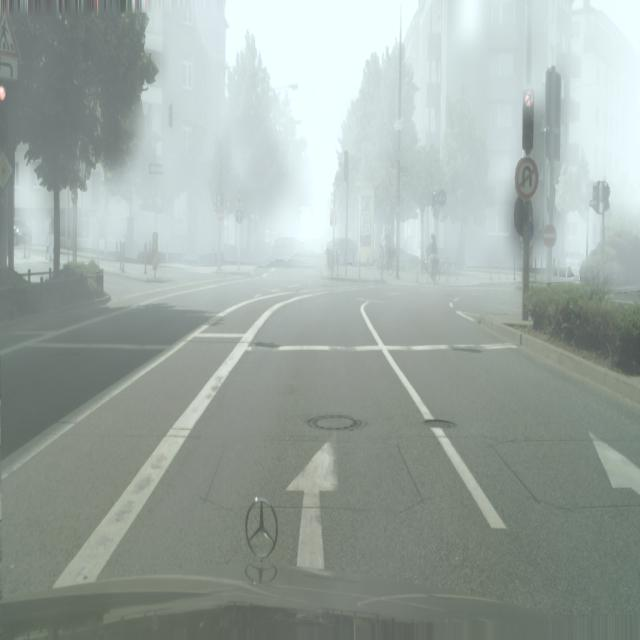bus: (426, 232, 439, 282), (151, 229, 159, 280)
person: (330, 238, 357, 265), (272, 233, 292, 264)
